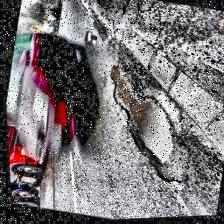pothole: (86, 61, 188, 174)
